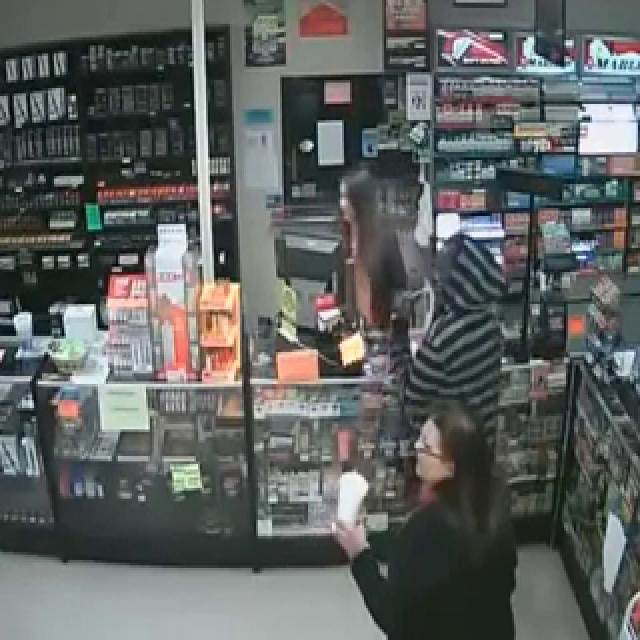robbery: (222, 0, 521, 640)
